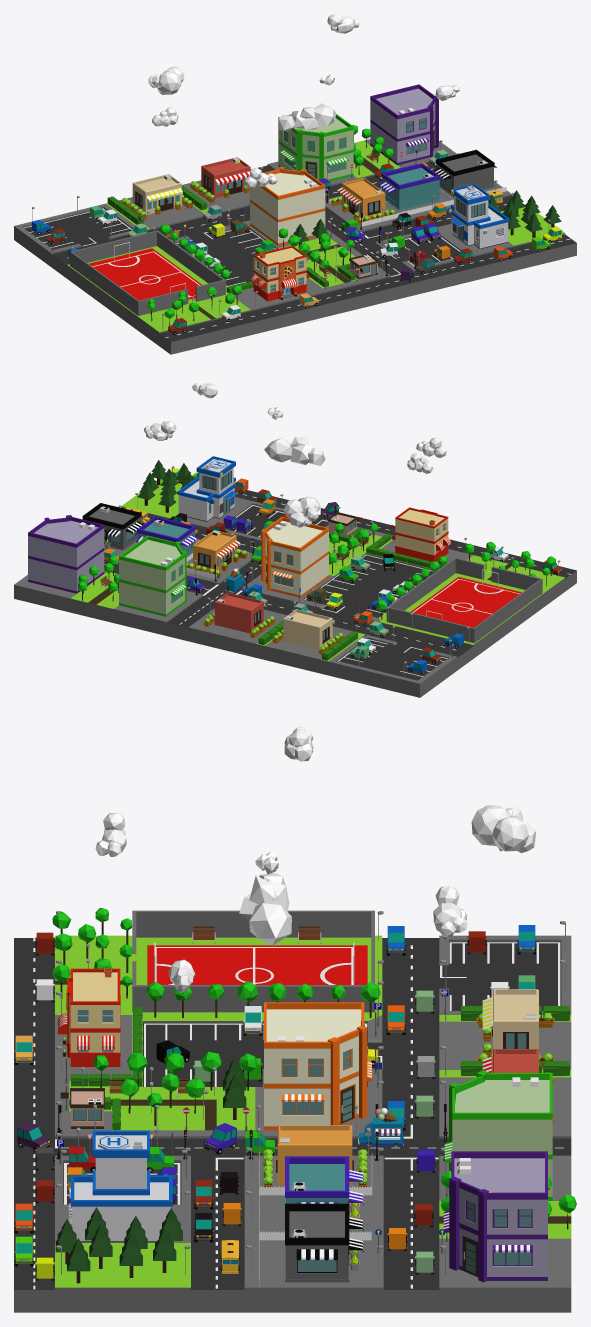
Rendered from citta01.fbx.
3 renders of one model, top to bottom at view 1: azimuth 30°, elevation 25°; view 2: azimuth 150°, elevation 25°; view 3: azimuth 270°, elevation 25°, orthographic. The views are drawn at different scales.
Parts seen in each view (by area): view 1: plane, tenda.006, Cube.002, vetro.016, Sphere.001, tenda.005, police station, pizzeria, base casa.002, base casa.003, Icosphere.008, vetro.017 (+12 smaller); view 2: plane, tenda.006, Cube.002, tenda.005, vetro.016, Sphere.001, police station, pizzeria, vetro.017, Icosphere.008, casa.006, base casa.003 (+11 smaller); view 3: plane, vetro.016, tenda.006, Cube.002, Sphere.001, tenda.005, police station, base casa.003, pizzeria, road lines, Cube.001, Icosphere.008 (+13 smaller).
Boxes of the visible parts, x1=… form: plane: x1=14, y1=139, x2=576, y2=354; tenda.006: x1=370, y1=84, x2=438, y2=165; Cube.002: x1=70, y1=230, x2=225, y2=315; vetro.016: x1=250, y1=166, x2=325, y2=245; Sphere.001: x1=148, y1=14, x2=459, y2=188; tenda.005: x1=278, y1=114, x2=353, y2=181; police station: x1=447, y1=183, x2=509, y2=248; pizzeria: x1=250, y1=245, x2=309, y2=301; base casa.002: x1=379, y1=163, x2=441, y2=210; base casa.003: x1=433, y1=149, x2=496, y2=196; Icosphere.008: x1=121, y1=174, x2=192, y2=219; vetro.017: x1=189, y1=157, x2=250, y2=202; plane: x1=14, y1=478, x2=576, y2=697; tenda.006: x1=28, y1=515, x2=104, y2=593; Cube.002: x1=386, y1=557, x2=542, y2=643; tenda.005: x1=119, y1=535, x2=186, y2=616; vetro.016: x1=261, y1=516, x2=328, y2=597; Sphere.001: x1=144, y1=383, x2=446, y2=527; police station: x1=177, y1=456, x2=237, y2=521; pizzeria: x1=392, y1=507, x2=451, y2=561; vetro.017: x1=204, y1=592, x2=275, y2=637; Icosphere.008: x1=272, y1=609, x2=344, y2=654; casa.006: x1=186, y1=530, x2=247, y2=578; base casa.003: x1=82, y1=503, x2=143, y2=550; plane: x1=14, y1=935, x2=571, y2=1312; vetro.016: x1=264, y1=1002, x2=371, y2=1130; tenda.006: x1=443, y1=1151, x2=547, y2=1282; Cube.002: x1=132, y1=910, x2=374, y2=1012; Sphere.001: x1=95, y1=726, x2=535, y2=992; tenda.005: x1=444, y1=1070, x2=552, y2=1200; police station: x1=68, y1=1129, x2=172, y2=1242; base casa.003: x1=285, y1=1203, x2=363, y2=1282; pizzeria: x1=57, y1=968, x2=120, y2=1066; road lines: x1=33, y1=938, x2=563, y2=1289; Cube.001: x1=55, y1=1207, x2=182, y2=1283; Icosphere.008: x1=476, y1=989, x2=554, y2=1067.
Bounding box in the file's own units: 12845 × 5470 × 8681.
